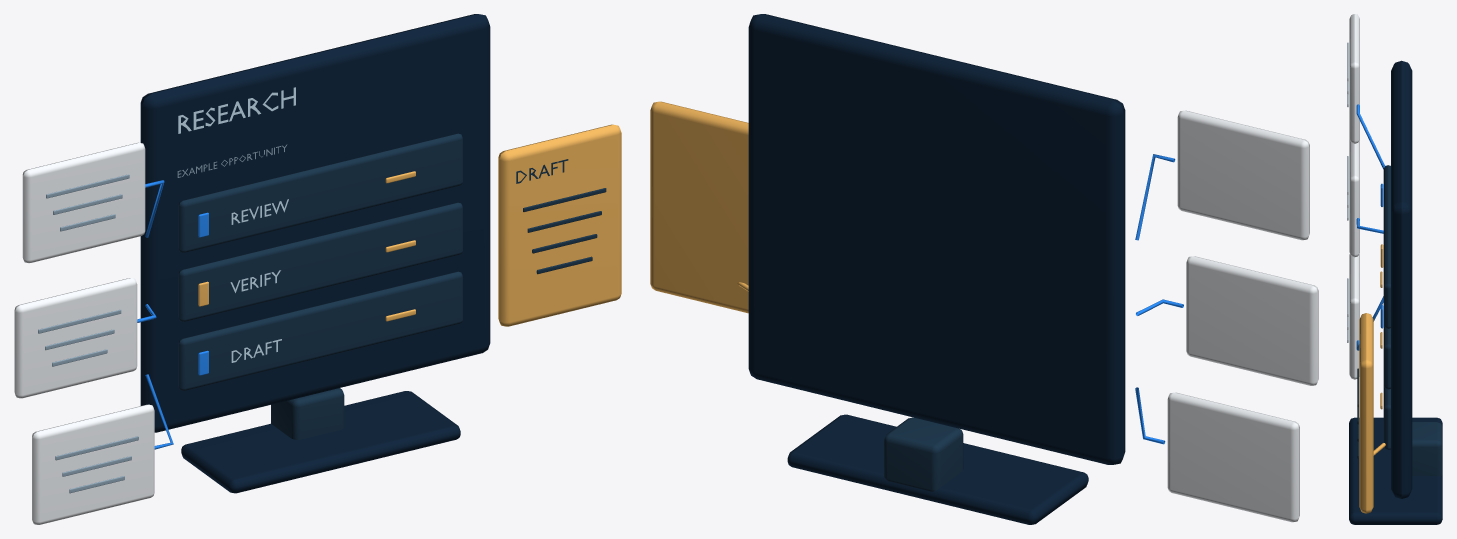
Rendered from research-hero.glb.
3 renders of one model, left to right at view 1: azimuth 30°, elevation 25°; view 2: azimuth 150°, elevation 25°; view 3: azimuth 270°, elevation 25°, orthographic. The views are drawn at different scales.
Visible parts, largest first — view 1: Research workspace, Reviewed draft, Pipeline stage DRAFT, Pipeline stage VERIFY, Pipeline stage REVIEW, Workspace foot, Source card 0, Source card 1, Source card 2, Workspace stand, Workspace title; view 2: Research workspace, Reviewed draft, Source card 1, Source card 2, Source card 0, Workspace foot, Workspace stand; view 3: Research workspace, Workspace foot, Reviewed draft, Workspace stand, Source card 0, Source card 2, Pipeline stage REVIEW, Source card 1, Pipeline stage VERIFY, Pipeline stage DRAFT, Source to pipeline 0, Source to pipeline 1.
Boxes of the visible parts, x1,y1,x2,y2 form: Research workspace: (140,14,490,432); Reviewed draft: (498,124,621,326); Pipeline stage DRAFT: (178,271,462,390); Pipeline stage VERIFY: (178,202,462,321); Pipeline stage REVIEW: (178,133,462,252); Workspace foot: (181,391,460,493); Source card 0: (22,142,145,263); Source card 1: (14,278,137,398); Source card 2: (32,404,154,524); Workspace stand: (271,388,344,439); Workspace title: (178,87,295,133); Research workspace: (748,14,1125,464); Reviewed draft: (650,101,748,313); Source card 1: (1186,256,1318,385); Source card 2: (1167,392,1299,522); Source card 0: (1177,110,1309,240); Workspace foot: (787,414,1088,524); Workspace stand: (884,417,963,491); Research workspace: (1391,60,1412,498); Workspace foot: (1349,417,1442,524); Reviewed draft: (1359,313,1373,513); Workspace stand: (1412,422,1442,476); Source card 0: (1349,14,1359,143); Source card 2: (1349,254,1359,379); Pipeline stage REVIEW: (1383,165,1390,328); Source card 1: (1349,139,1359,257); Pipeline stage VERIFY: (1383,325,1390,389); Pipeline stage DRAFT: (1383,386,1390,449); Source to pipeline 0: (1356,104,1384,169); Source to pipeline 1: (1356,218,1383,233).
Size of the model in its own units: 5.29 by 3.25 by 0.814.
